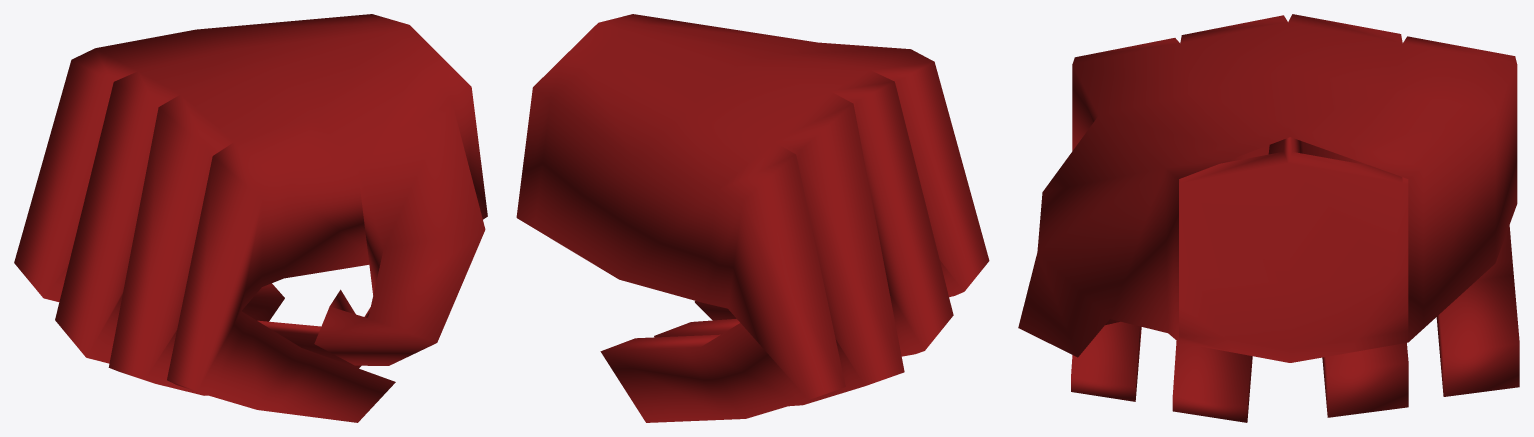
File: Giant_Fist.FBX
The picture shows the model from 3 angles, left to right: view 1: azimuth 30°, elevation 25°; view 2: azimuth 150°, elevation 25°; view 3: azimuth 270°, elevation 25°; orthographic projection. The views are drawn at different scales.
Parts seen in each view (by area): view 1: Giant_BaseMesh:Giant; view 2: Giant_BaseMesh:Giant; view 3: Giant_BaseMesh:Giant.
Part boxes in pixels (x1,y1,x2,y2): Giant_BaseMesh:Giant: (14,14,487,422); Giant_BaseMesh:Giant: (516,14,989,422); Giant_BaseMesh:Giant: (1018,14,1519,422).
Bounding box in the file's own units: 69.94 × 60.89 × 74.57.
